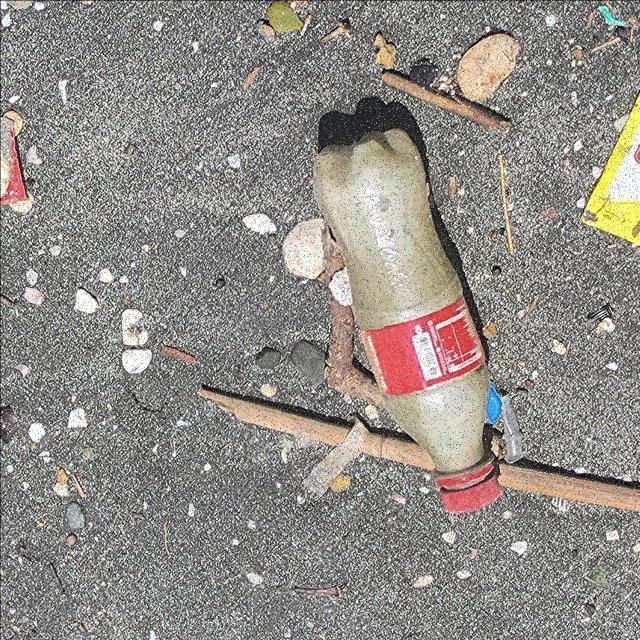plastic_waste: (312, 126, 504, 515)
